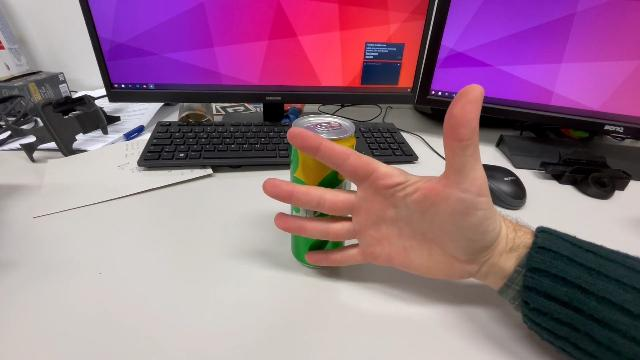Sprite: (286, 113, 356, 273)
